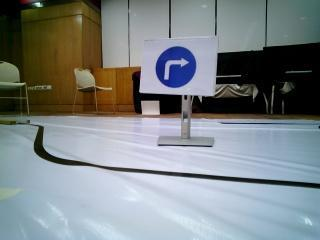right: (146, 37, 216, 97)
